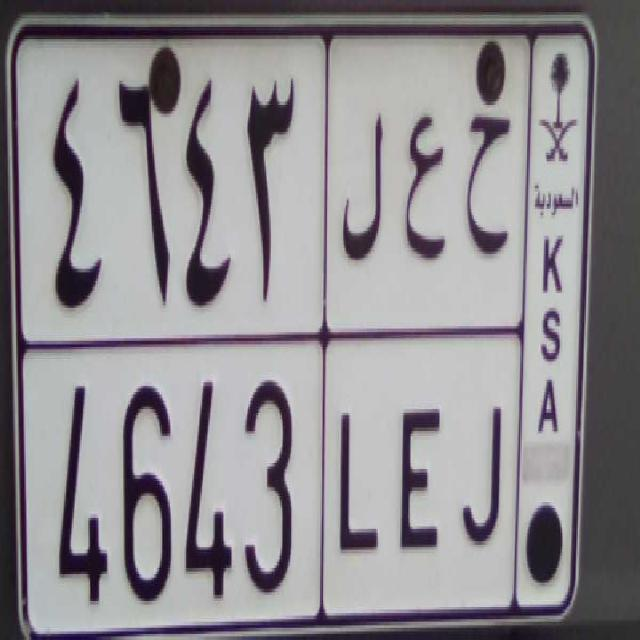license_plate: (42, 352, 510, 631)
